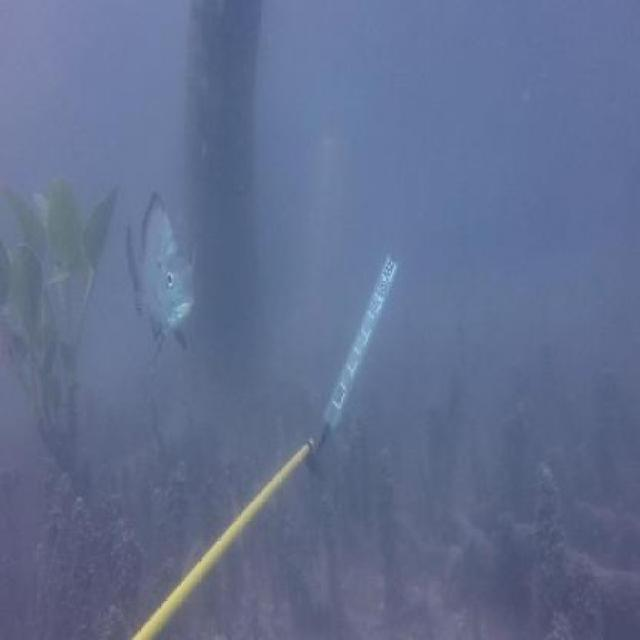acanthopagrus_palmaris: (120, 191, 194, 374)
